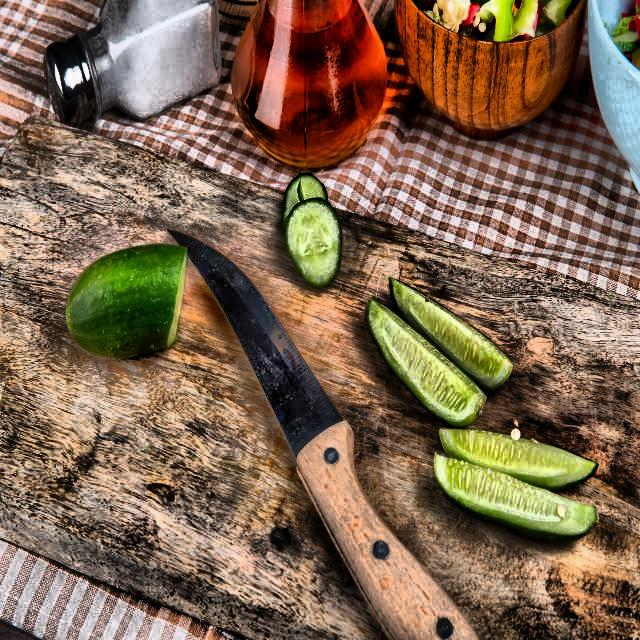knife: (164, 215, 484, 640)
